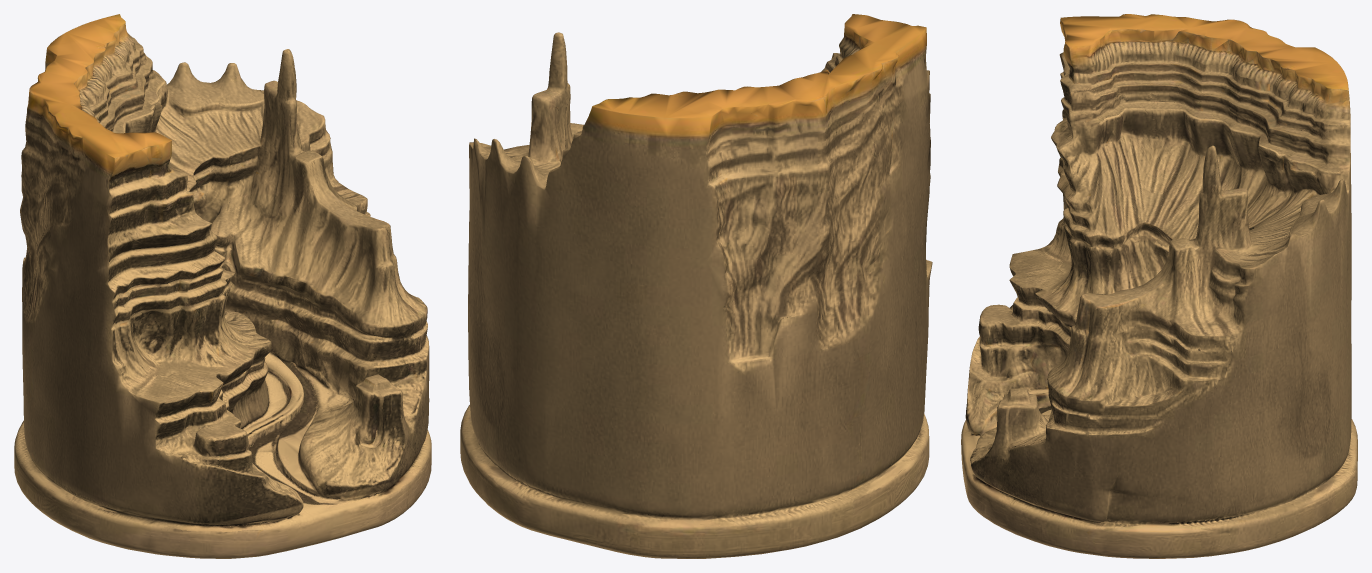
File: grand_canyon.glb
The picture shows the model from 3 angles, left to right: view 1: azimuth 30°, elevation 25°; view 2: azimuth 150°, elevation 25°; view 3: azimuth 270°, elevation 25°; orthographic projection. The views are drawn at different scales.
Visible parts, largest first — view 1: Mesh_0; view 2: Mesh_0; view 3: Mesh_0.
Part boxes in pixels (<box>): Mesh_0: <box>14,14,431,558</box>; Mesh_0: <box>460,14,932,558</box>; Mesh_0: <box>961,14,1357,558</box>.
Size of the model in its own units: 1.82 by 1.9 by 1.78.
1 material, 1 textured.
